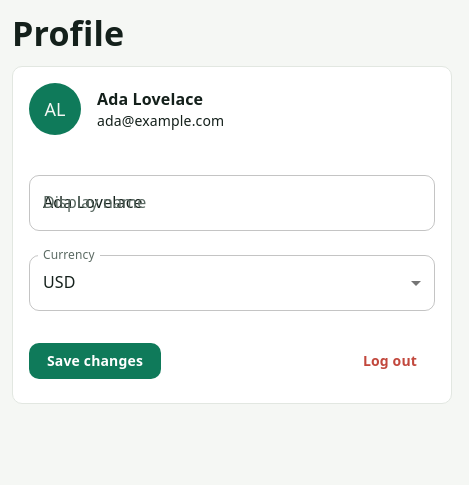
Test: ProfilePage › surfaces a server error
The image size is (469, 485).
Expected: the field showing "Ada Lovelace" is shown, [29,175,435,231]
Step 1. Click the button "Save changes" → (95, 361), box [29,343,161,379]
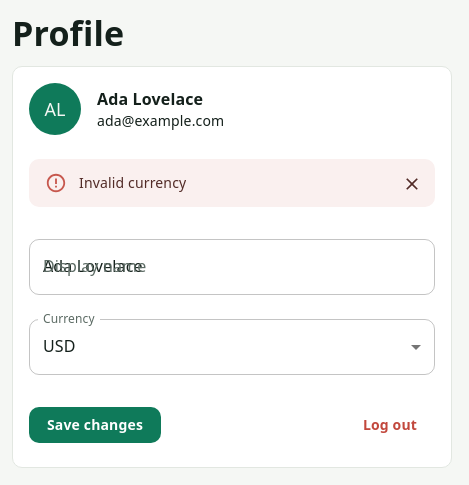
Result: the text "Invalid currency" is shown at [79,173,186,192]
